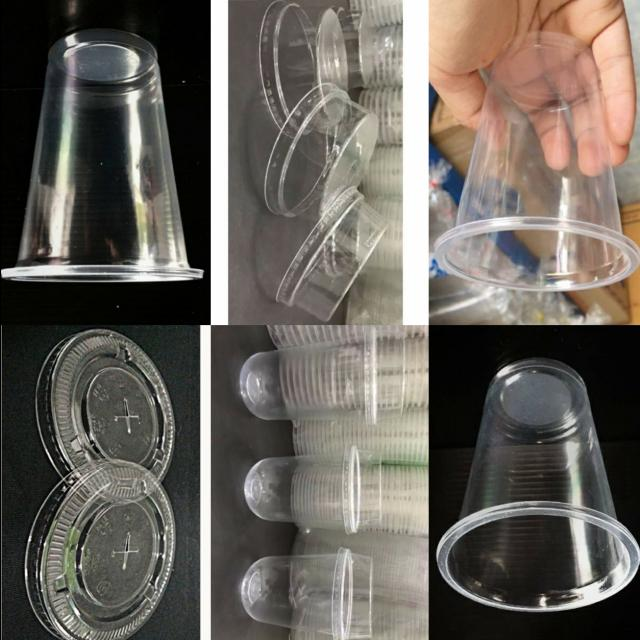plastik: (434, 32, 639, 292), (436, 358, 639, 611), (0, 29, 203, 281), (25, 460, 174, 640), (35, 329, 174, 479), (238, 331, 406, 424), (264, 84, 377, 216), (275, 187, 386, 321), (241, 547, 371, 640), (243, 445, 380, 533), (259, 1, 347, 127)
